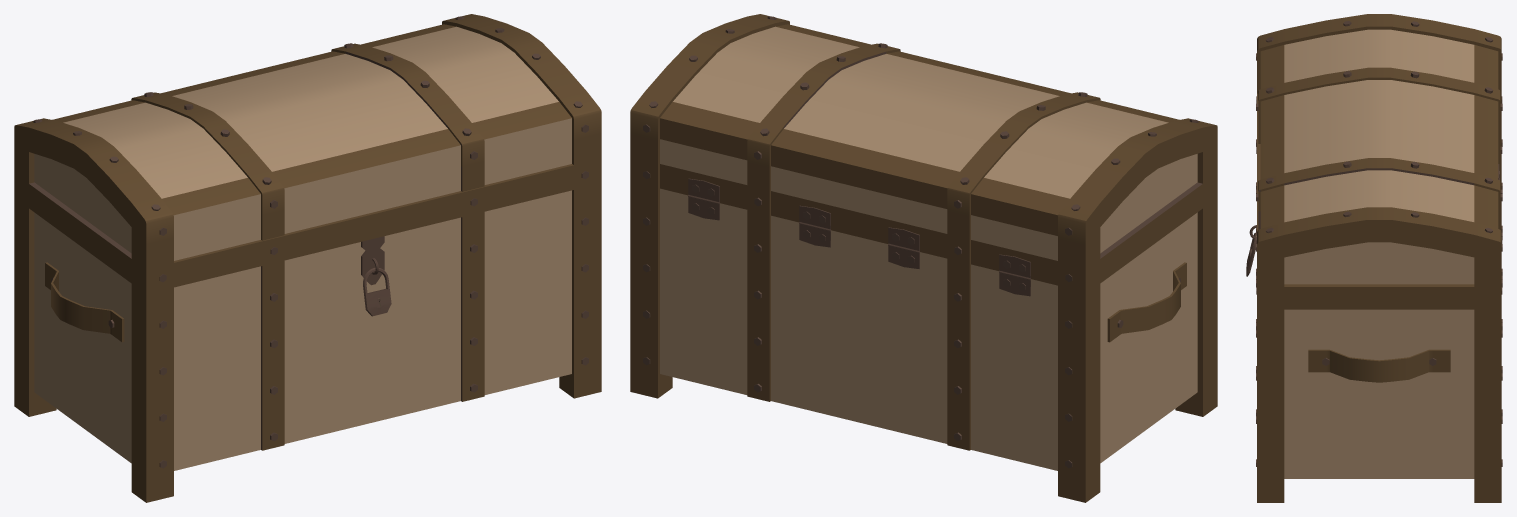
Rendered from Chest.fbx.
3 views of the same model, side by side, from view 1: azimuth 30°, elevation 25°; view 2: azimuth 150°, elevation 25°; view 3: azimuth 270°, elevation 25° (orthographic). The views are drawn at different scales.
Visible parts, largest first — view 1: Chest; view 2: Chest; view 3: Chest.
Boxes of the visible parts, x1,y1,x2,y2 form: Chest: (14, 14, 601, 502); Chest: (630, 14, 1217, 502); Chest: (1246, 14, 1502, 502).
Size of the model in its own units: 223 by 132 by 108.
